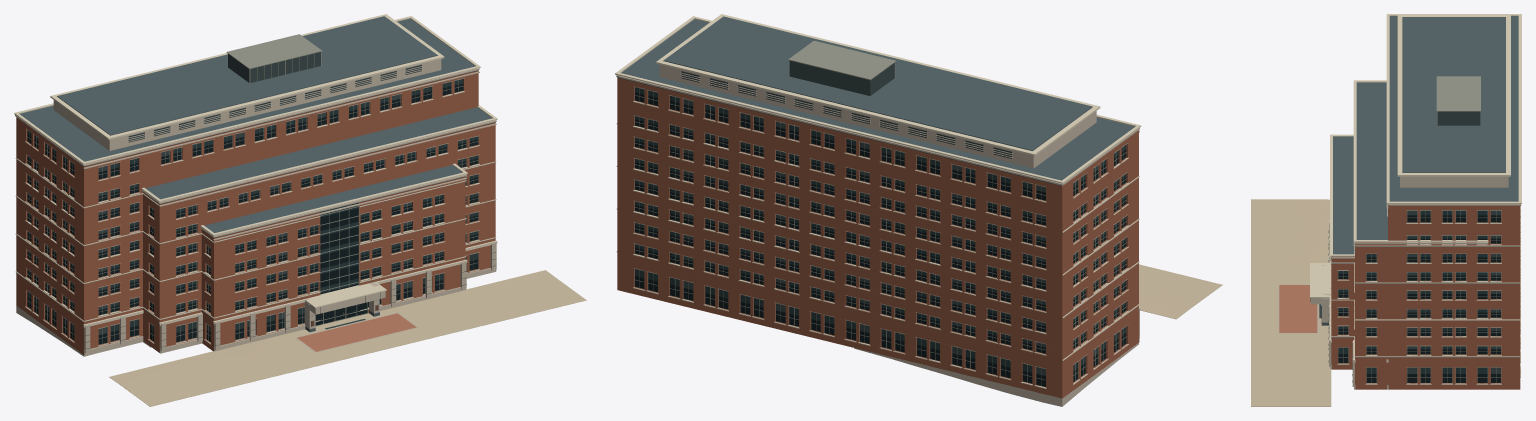
Rendered from questrom-mobile-source.glb.
3 renders of one model, left to right at view 1: azimuth 30°, elevation 25°; view 2: azimuth 150°, elevation 25°; view 3: azimuth 270°, elevation 25°, orthographic. The views are drawn at different scales.
Parts seen in each view (by area): view 1: BU architecture · brick, BU architecture · roof, BU architecture · stone, BU ground · paving, BU architecture · trim, BU architecture · glassShade, BU architecture · frame, BU architecture · glass, BU architecture · inset, BU architecture · glassLight, BU ground · brickLight; view 2: BU architecture · brick, BU architecture · roof, BU architecture · glassShade, BU architecture · trim, BU architecture · stone, BU architecture · frame, BU architecture · glass, BU architecture · glassLight, BU ground · paving, BU architecture · inset; view 3: BU architecture · roof, BU architecture · brick, BU ground · paving, BU architecture · trim, BU architecture · frame, BU architecture · glassShade, BU architecture · stone, BU architecture · glass, BU ground · brickLight, BU architecture · glassLight, BU architecture · inset, BU ground · stone.
Boxes of the visible parts, <box> form: BU architecture · brick: <box>16,70,495,354</box>; BU architecture · roof: <box>20,16,492,332</box>; BU architecture · stone: <box>15,59,496,356</box>; BU ground · paving: <box>109,270,586,406</box>; BU architecture · trim: <box>14,14,497,346</box>; BU architecture · glassShade: <box>27,79,478,344</box>; BU architecture · frame: <box>27,34,478,343</box>; BU architecture · glass: <box>27,79,478,332</box>; BU architecture · inset: <box>83,64,496,348</box>; BU architecture · glassLight: <box>45,52,434,334</box>; BU ground · brickLight: <box>297,313,416,351</box>; BU architecture · brick: <box>617,77,1138,398</box>; BU architecture · roof: <box>621,16,1134,180</box>; BU architecture · glassShade: <box>635,92,1126,386</box>; BU architecture · trim: <box>615,14,1141,388</box>; BU architecture · stone: <box>616,65,1139,406</box>; BU architecture · frame: <box>634,40,1126,387</box>; BU architecture · glass: <box>635,87,1126,372</box>; BU architecture · glassLight: <box>683,60,1097,375</box>; BU ground · paving: <box>1139,264,1222,319</box>; BU architecture · inset: <box>617,71,1062,361</box>; BU architecture · roof: <box>1321,16,1518,325</box>; BU architecture · brick: <box>1331,205,1520,389</box>; BU ground · paving: <box>1251,199,1331,406</box>; BU architecture · trim: <box>1310,14,1521,384</box>; BU architecture · frame: <box>1338,76,1501,383</box>; BU architecture · glassShade: <box>1338,215,1500,382</box>; BU architecture · stone: <box>1310,176,1521,389</box>; BU architecture · glass: <box>1338,210,1487,373</box>; BU ground · brickLight: <box>1279,285,1317,332</box>; BU architecture · glassLight: <box>1407,111,1500,373</box>; BU architecture · inset: <box>1310,205,1520,382</box>; BU ground · stone: <box>1277,284,1318,333</box>.
Bounding box in the file's own units: 104 × 52.24 × 57.32.
